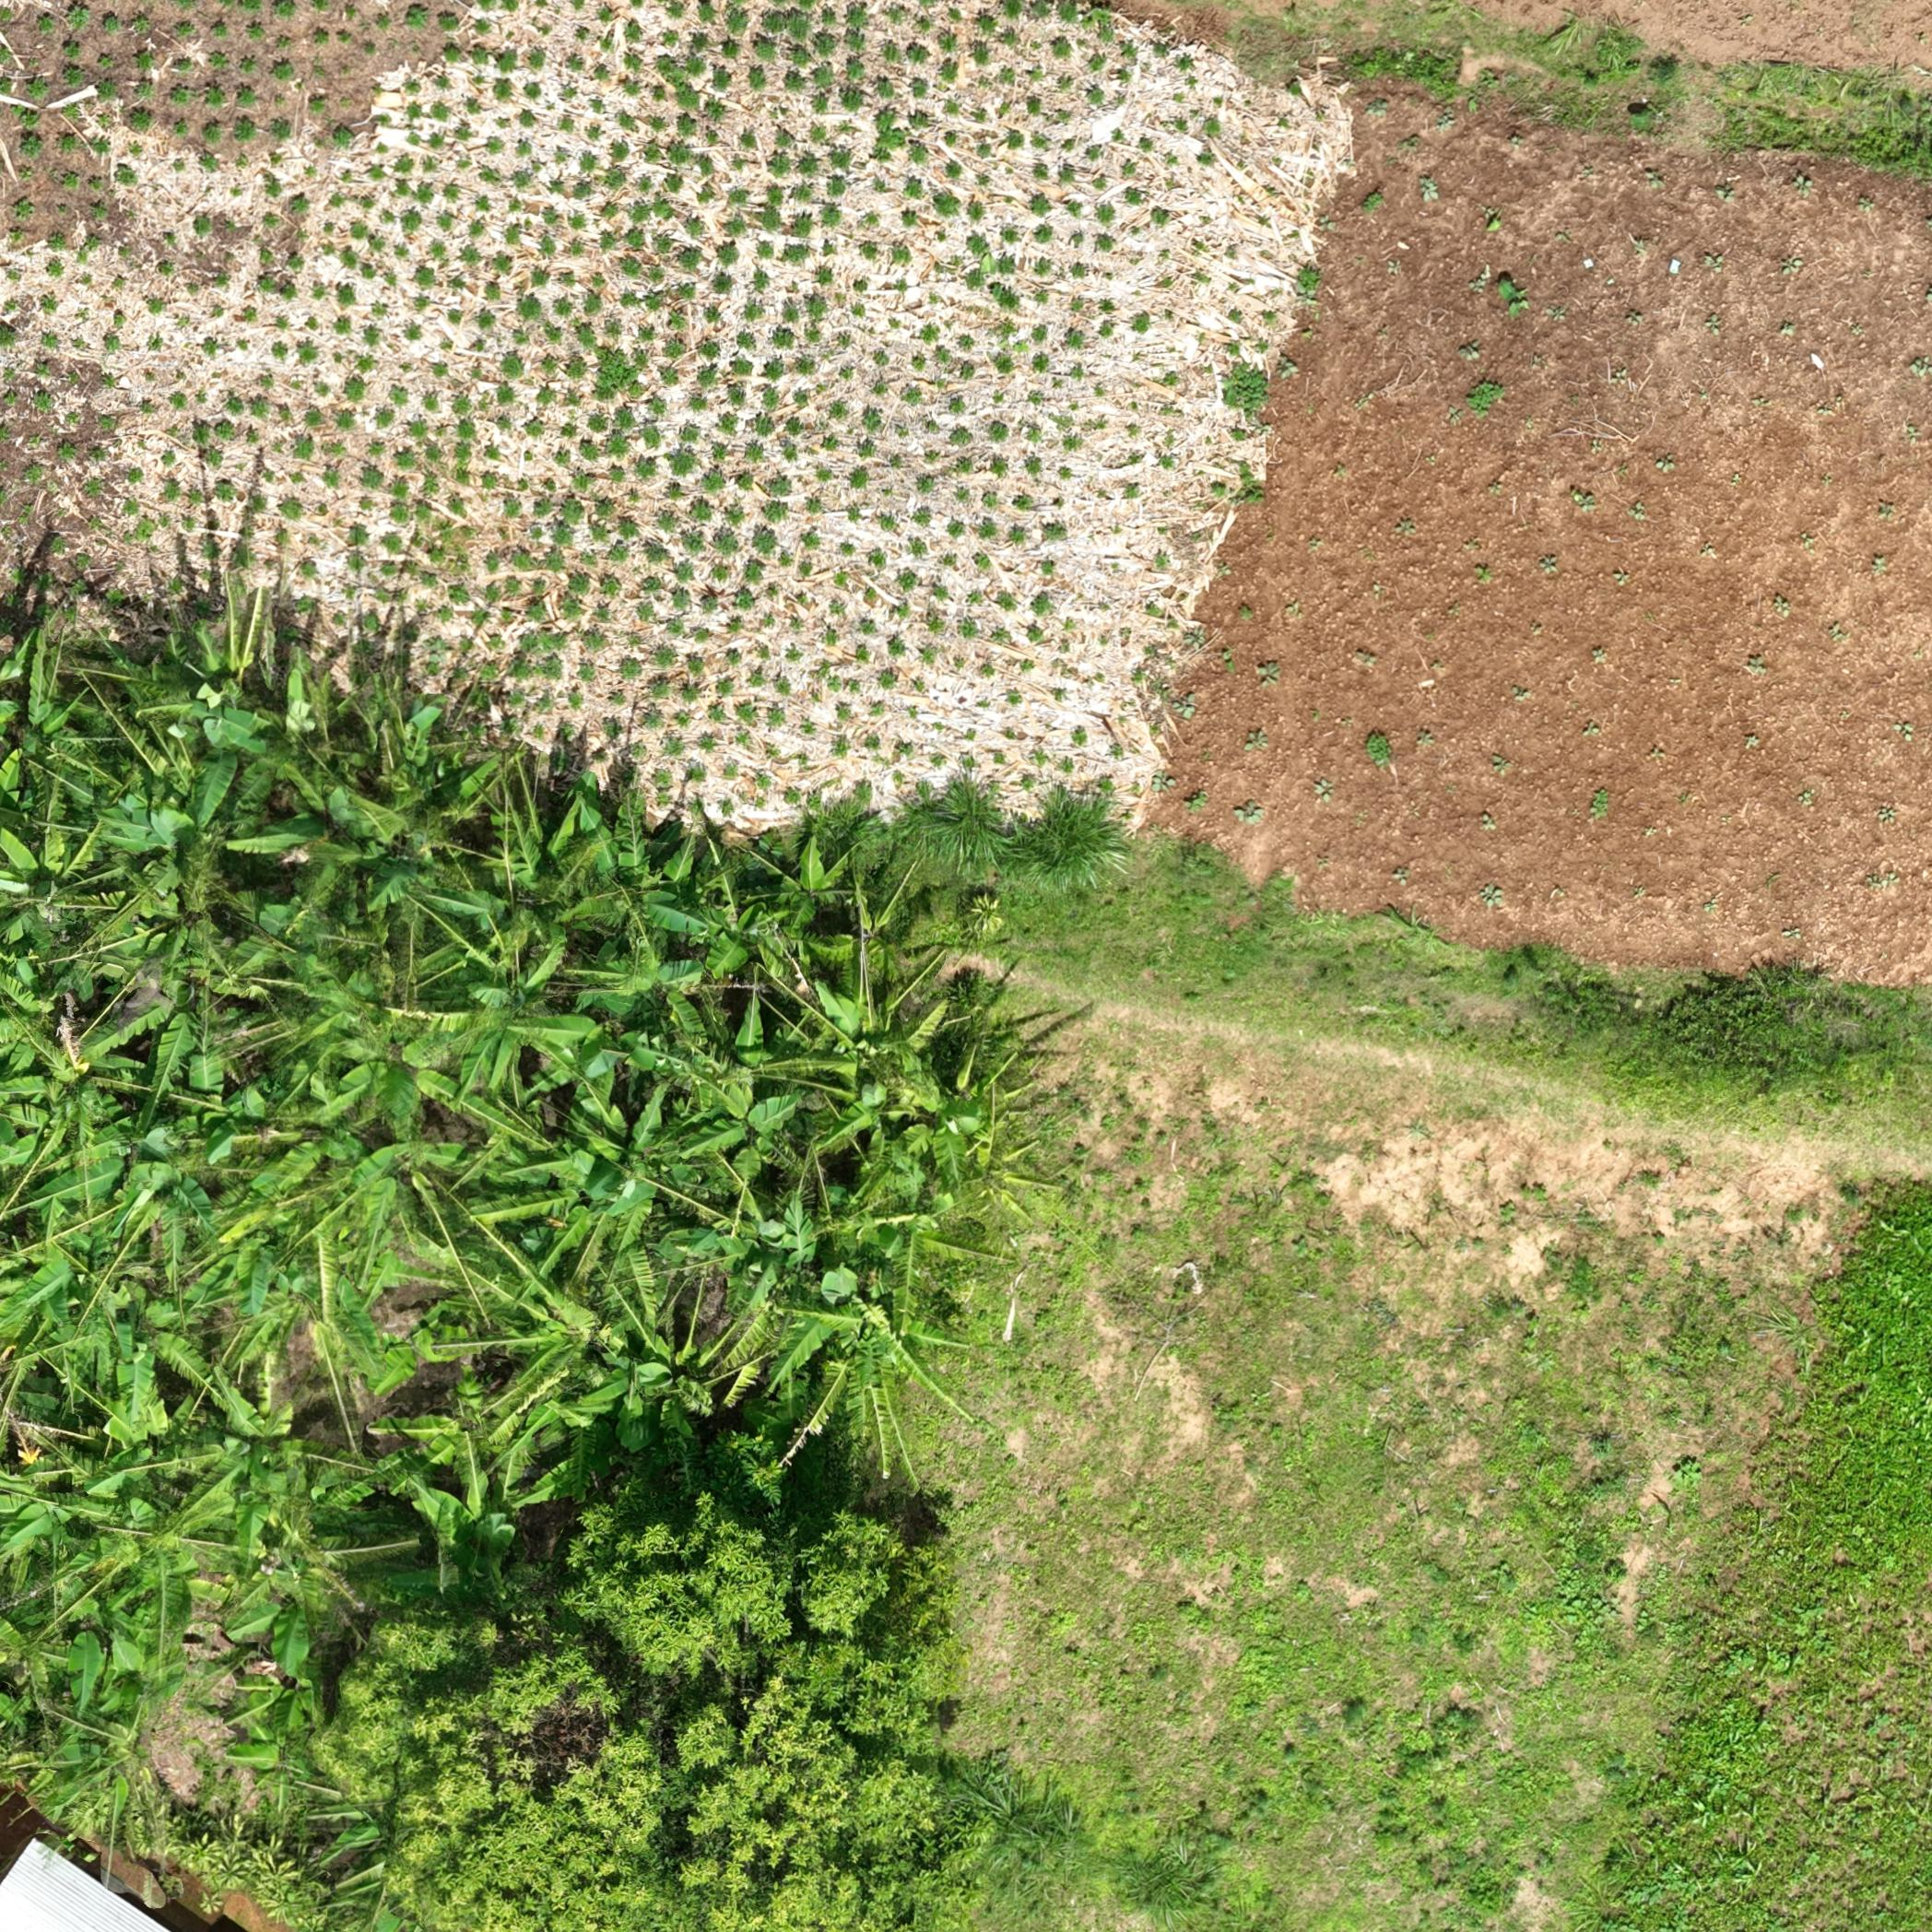Banana: (11, 824, 239, 1030), (4, 1458, 175, 1729), (499, 1054, 725, 1249), (543, 789, 750, 991), (398, 1375, 584, 1598), (4, 1244, 223, 1415), (193, 1442, 343, 1691), (255, 660, 439, 862), (269, 945, 449, 1148), (230, 1166, 432, 1334), (789, 1277, 936, 1486), (142, 632, 283, 839), (12, 1051, 179, 1217), (7, 633, 126, 821), (747, 853, 862, 952)
